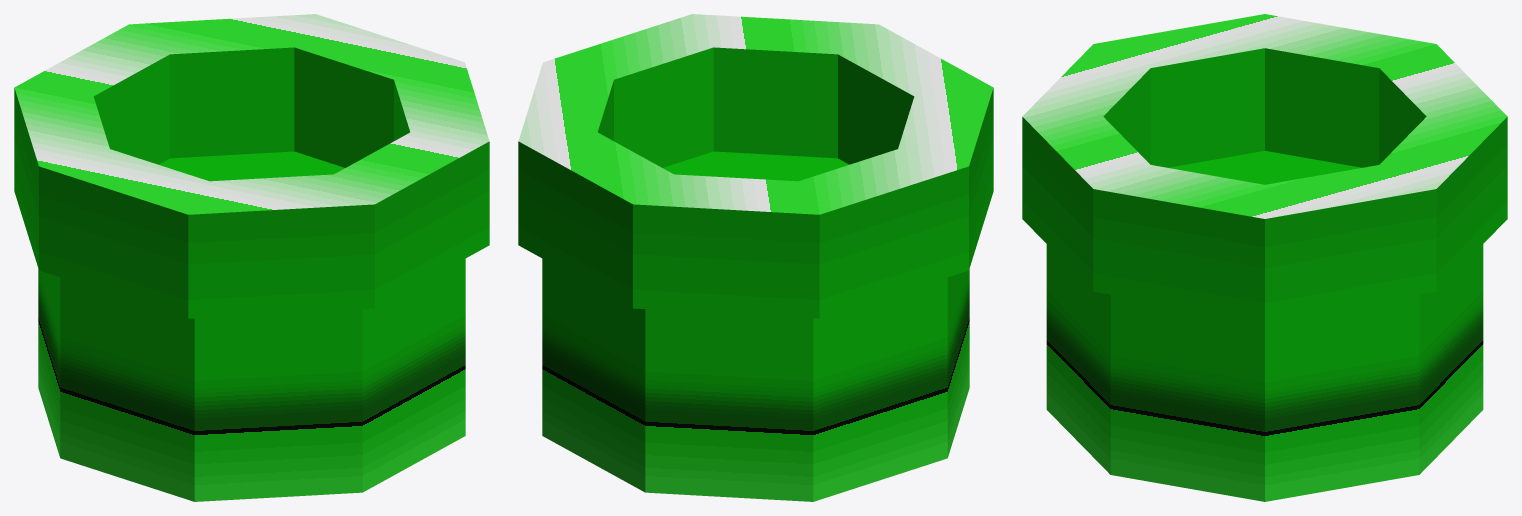
File: obj_dokan.obj
3 renders of one model, left to right at view 1: azimuth 30°, elevation 25°; view 2: azimuth 150°, elevation 25°; view 3: azimuth 270°, elevation 25°, orthographic.
Parts seen in each view (by area): view 1: world_root; view 2: world_root; view 3: world_root.
Part boxes in pixels (x1,y1,x2,y2): world_root: (14, 14, 489, 501); world_root: (518, 14, 993, 501); world_root: (1022, 14, 1507, 501).
Bounding box in the file's own units: 37.5 × 25 × 37.5.
2 materials, 2 textured.
